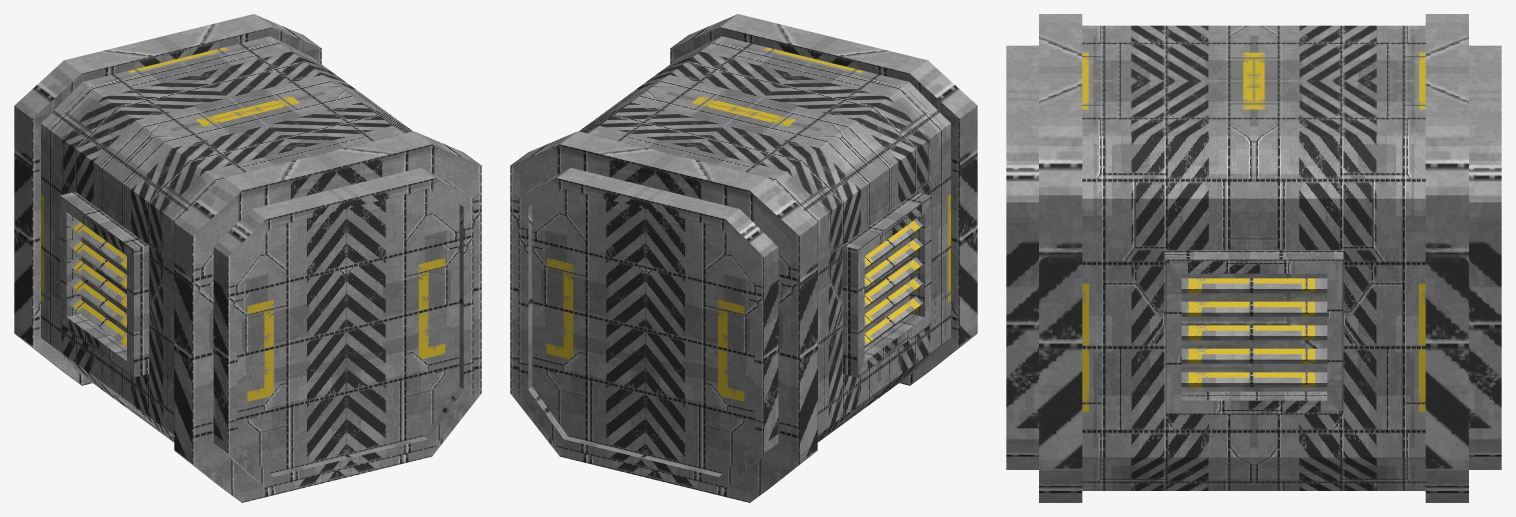
File: container2.fbx
3 renders of one model, left to right at view 1: azimuth 30°, elevation 25°; view 2: azimuth 150°, elevation 25°; view 3: azimuth 270°, elevation 25°, orthographic. The views are drawn at different scales.
Parts seen in each view (by area): view 1: Cylinder, Cylinder.001; view 2: Cylinder, Cylinder.001; view 3: Cylinder, Cylinder.001.
Part boxes in pixels (<box>): Cylinder: <box>14,14,481,502</box>; Cylinder.001: <box>60,191,148,377</box>; Cylinder: <box>510,14,977,502</box>; Cylinder.001: <box>842,192,931,377</box>; Cylinder: <box>1006,14,1501,502</box>; Cylinder.001: <box>1165,250,1343,414</box>.
Size of the model in its own units: 2.32 by 2.29 by 2.73.
